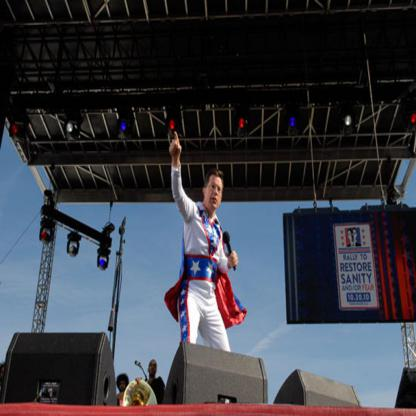face: (207, 179, 224, 209), (150, 362, 157, 375), (120, 380, 127, 391), (353, 232, 357, 241), (348, 233, 352, 240)
